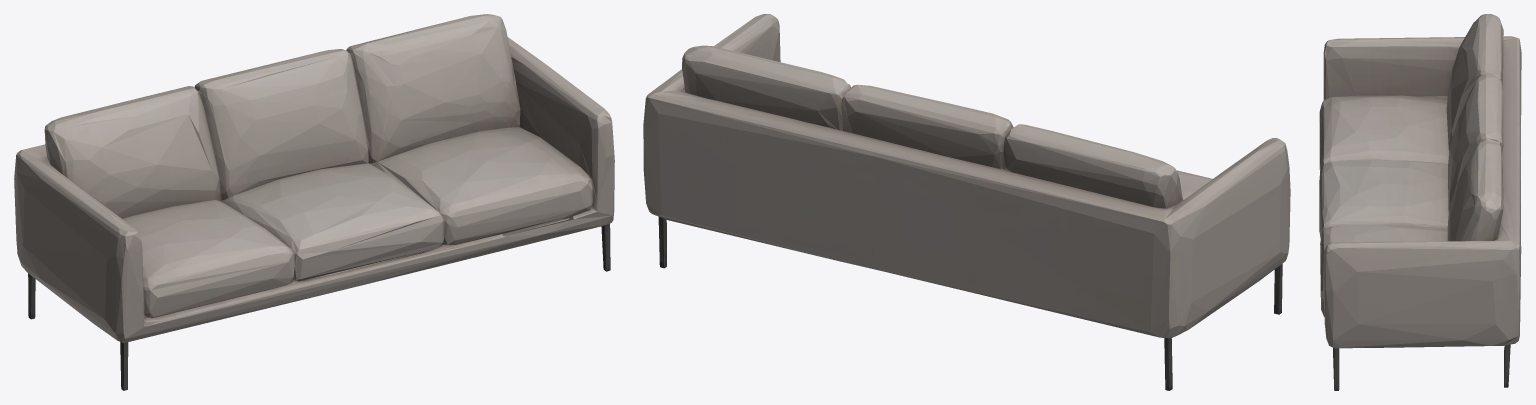
Rendered from hf_sofa.glb.
3 renders of one model, left to right at view 1: azimuth 30°, elevation 25°; view 2: azimuth 150°, elevation 25°; view 3: azimuth 270°, elevation 25°, orthographic. The views are drawn at different scales.
Parts seen in each view (by area): view 1: geometry_0; view 2: geometry_0; view 3: geometry_0.
Boxes of the visible parts, bbox=[...] form: geometry_0: bbox=[14, 14, 614, 390]; geometry_0: bbox=[643, 14, 1290, 390]; geometry_0: bbox=[1319, 14, 1521, 390].
Size of the model in its own units: 0.9977 by 0.3875 by 0.3934.
1 material, 1 textured.
